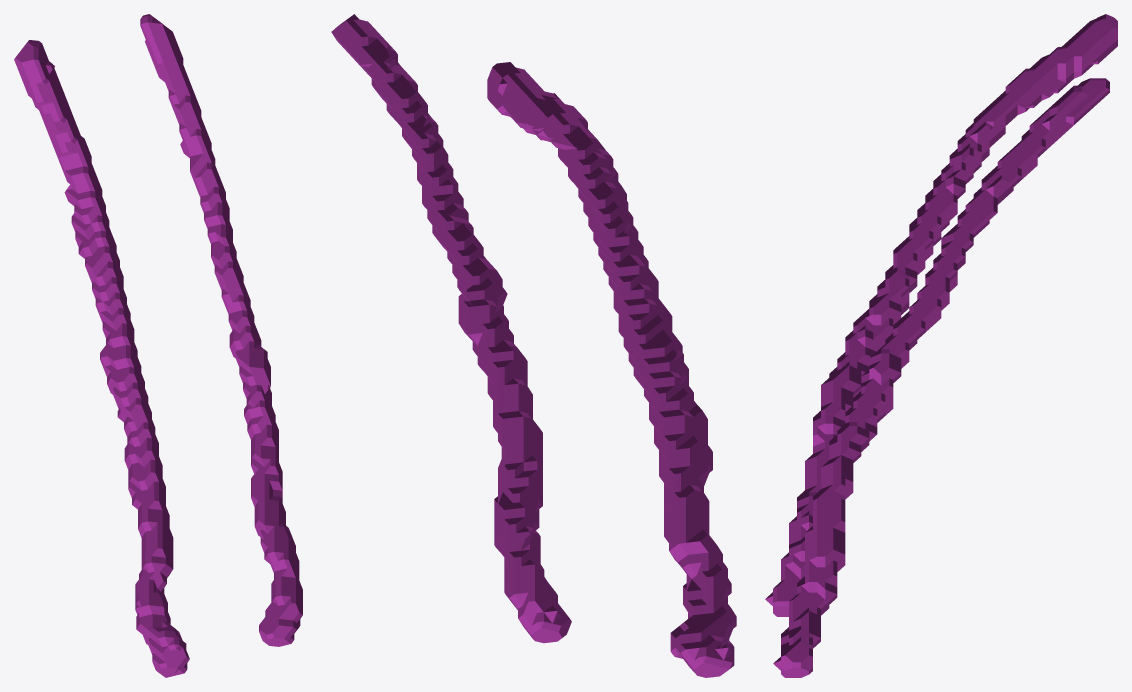
The model's file is region_0085_MFB__medial_forebrain_bundle_.glb.
3 views of the same model, side by side, from view 1: azimuth 30°, elevation 25°; view 2: azimuth 150°, elevation 25°; view 3: azimuth 270°, elevation 25° (orthographic). The views are drawn at different scales.
Parts seen in each view (by area): view 1: world; view 2: world; view 3: world.
Boxes of the visible parts, box(x1,y1,x2,y2) form: world: box(14, 14, 302, 677); world: box(331, 14, 736, 677); world: box(765, 14, 1117, 677).
Bounding box in the file's own units: 0.208 × 0.656 × 0.352.
